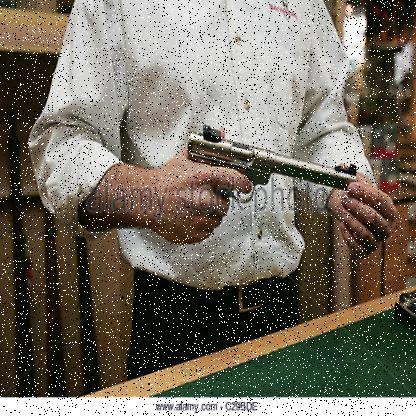pistol: (181, 115, 357, 252)
